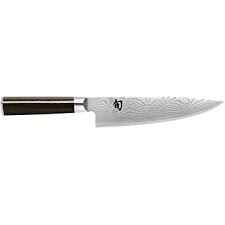knife: (1, 92, 222, 129)
